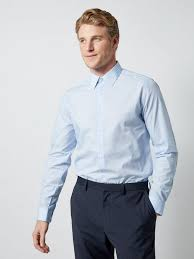F_dress pants: (62, 178, 160, 259)
F_shirt: (19, 65, 173, 225)
